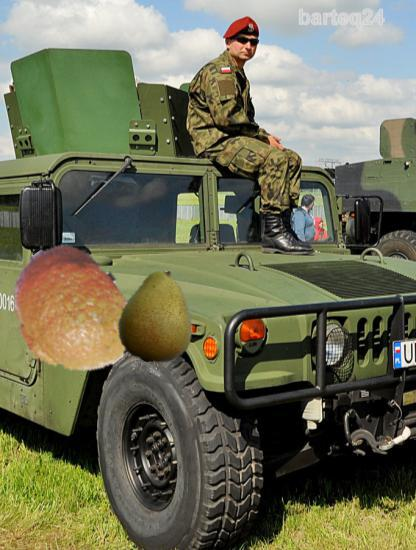Mandarine: (3, 245, 138, 380)
Pear: (111, 270, 205, 364)
